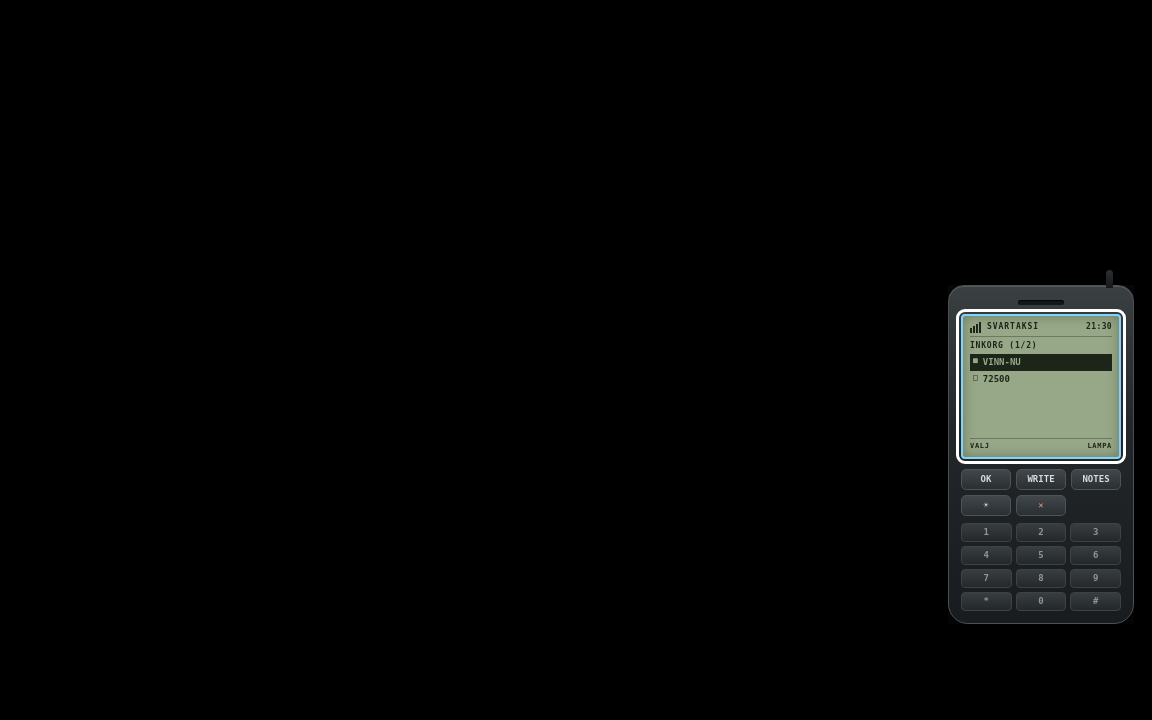
Test case: phone › sends a preset phrase from the composer
Click the button "WRITE" at (1041, 480), box [1016,469,1066,490]
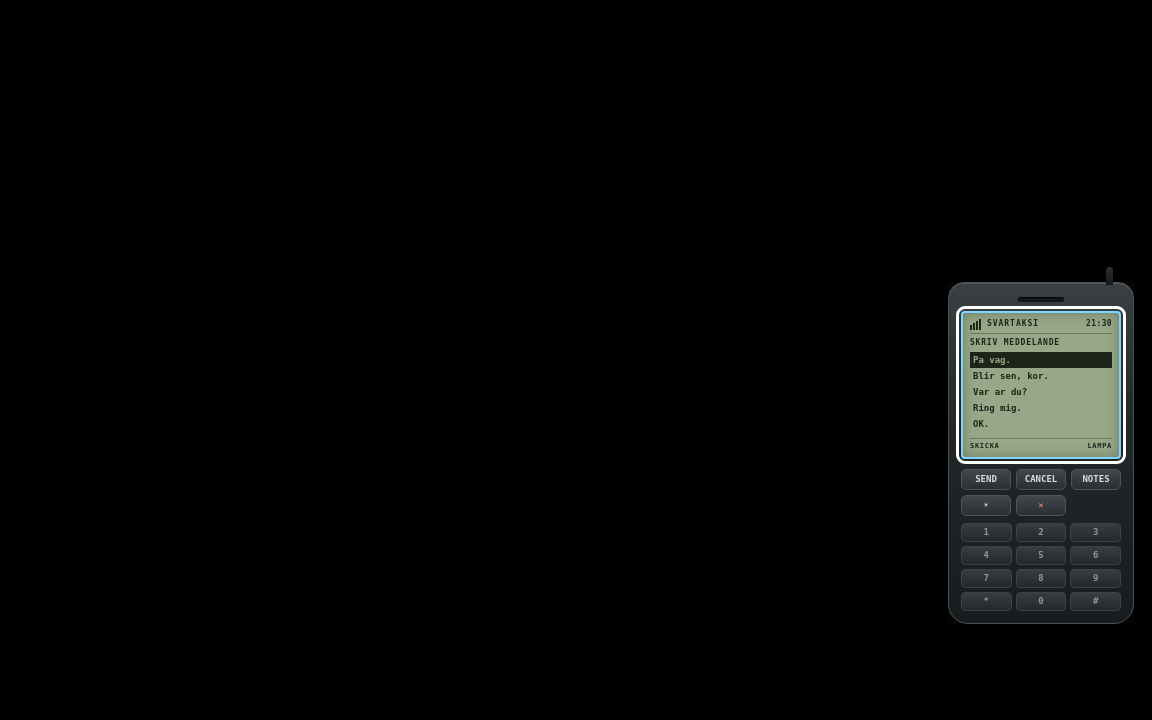
Expected: the text "SKRIV MEDDELANDE" is shown, [970,338,1060,347]
Click the button "Pa vag." at (1041, 360), box [970,352,1112,368]
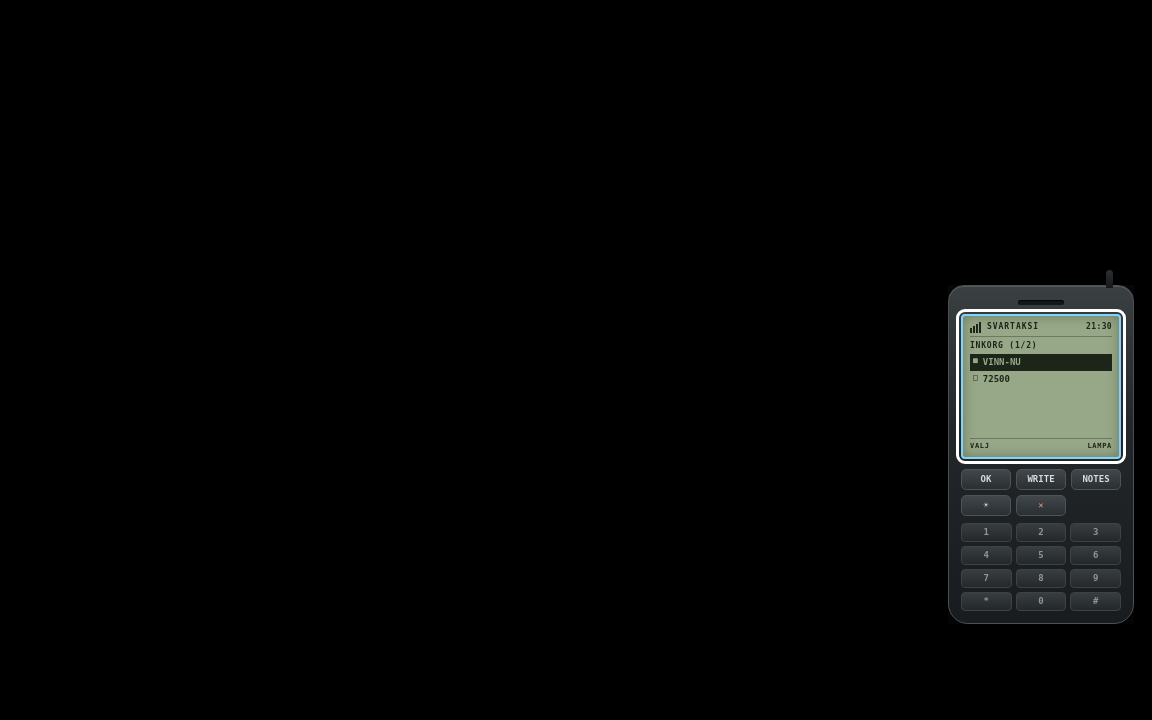
Expected: the text "INKORG (1/2)" is shown, [970,341,1037,350]
